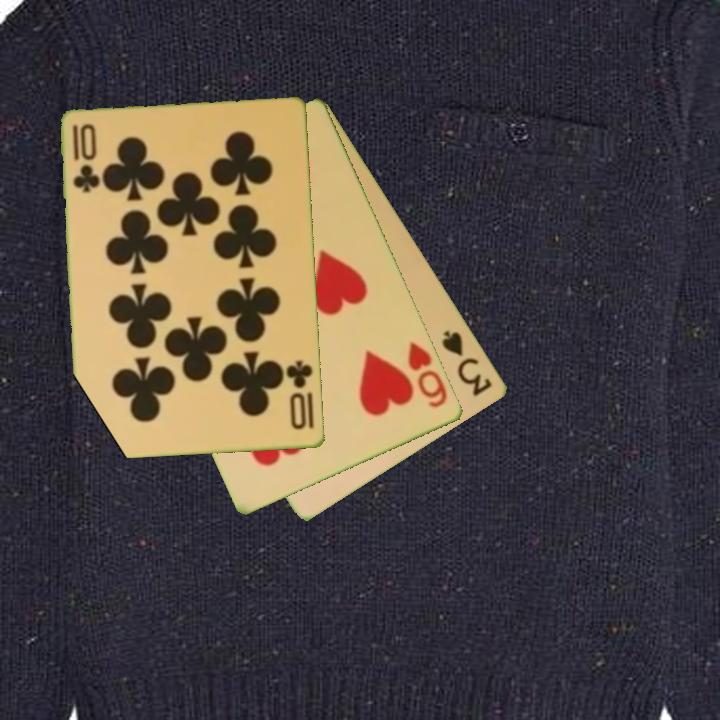10c: (283, 357, 316, 433), (69, 120, 101, 196)
3s: (439, 326, 496, 400)
6h: (404, 338, 451, 411)
